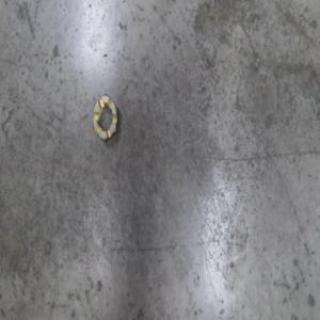Nuttrack_idkeyframe: (91, 90, 120, 142)
